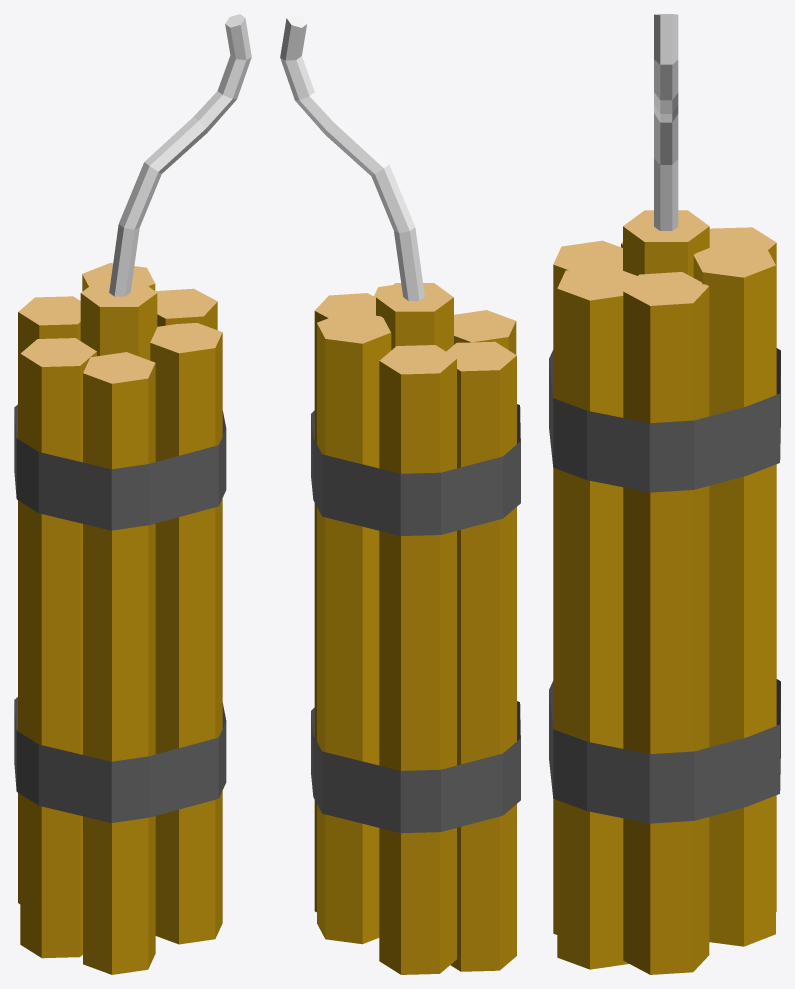
File: TNT.fbx
3 views of the same model, side by side, from view 1: azimuth 30°, elevation 25°; view 2: azimuth 150°, elevation 25°; view 3: azimuth 270°, elevation 25° (orthographic). The views are drawn at different scales.
Parts seen in each view (by area): view 1: TNT; view 2: TNT; view 3: TNT.
Part boxes in pixels (x1,y1,x2,y2): TNT: [14, 14, 251, 974]; TNT: [280, 14, 520, 974]; TNT: [549, 14, 780, 974].
Size of the model in its own units: 9.63 by 36.13 by 7.61.
